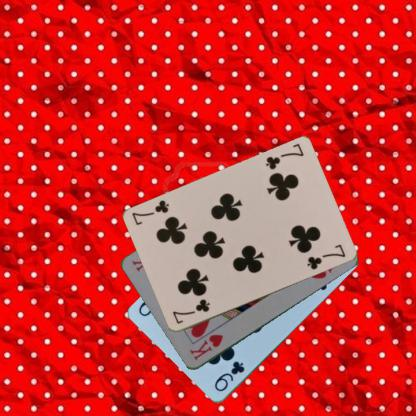7c: (262, 141, 305, 172), (170, 296, 211, 326)
9c: (212, 358, 246, 394)
Kh: (186, 332, 224, 362)
